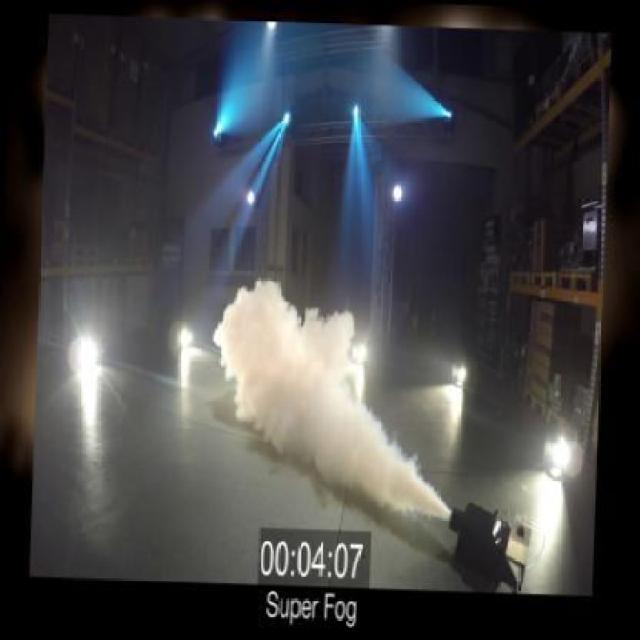fire: (212, 274, 426, 502)
